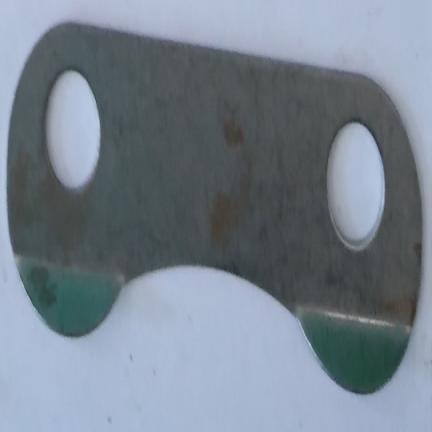besi_tidak_karat: (7, 24, 422, 393)
